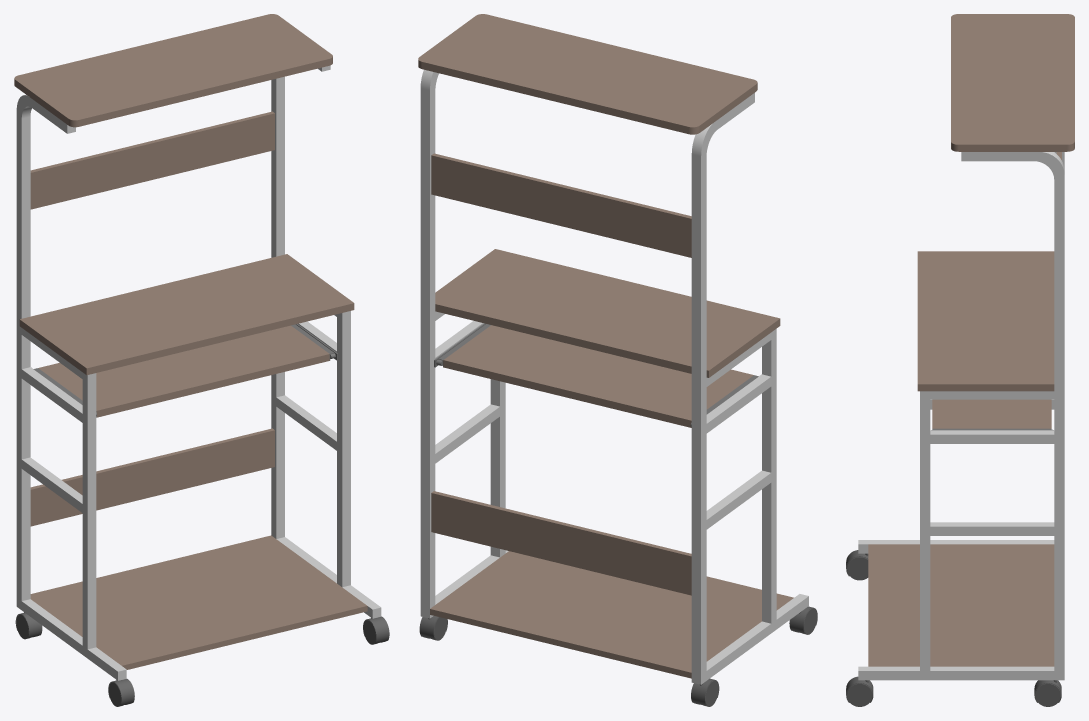
File: 506_デスク.glb
The picture shows the model from 3 angles, left to right: view 1: azimuth 30°, elevation 25°; view 2: azimuth 150°, elevation 25°; view 3: azimuth 270°, elevation 25°; orthographic projection. The views are drawn at different scales.
Visible parts, largest first — view 1: Body, slider; view 2: Body, slider; view 3: Body, slider.
Boxes of the visible parts, x1,y1,x2,y2 form: Body: (14, 14, 389, 706); slider: (33, 324, 333, 417); Body: (418, 14, 817, 706); slider: (438, 324, 758, 427); Body: (846, 14, 1074, 706); slider: (932, 399, 1051, 430).
Size of the model in its own units: 0.6104 by 1.2 by 0.4433.
